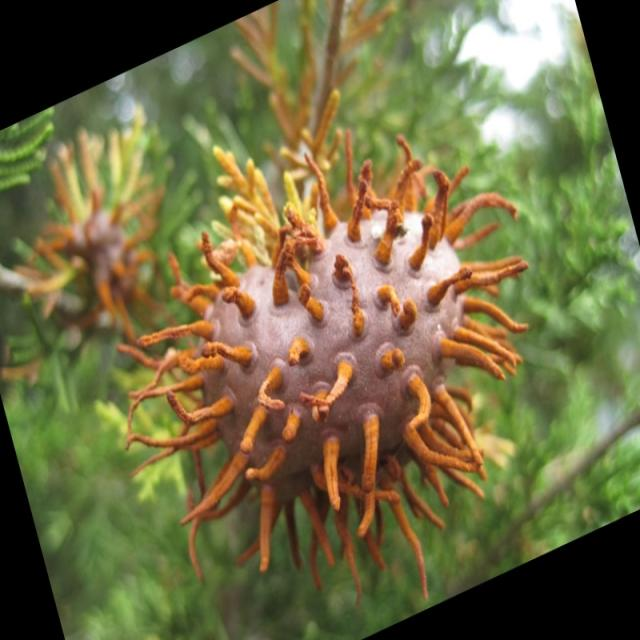Gymnosporangium_Rusts: (115, 124, 530, 605)
